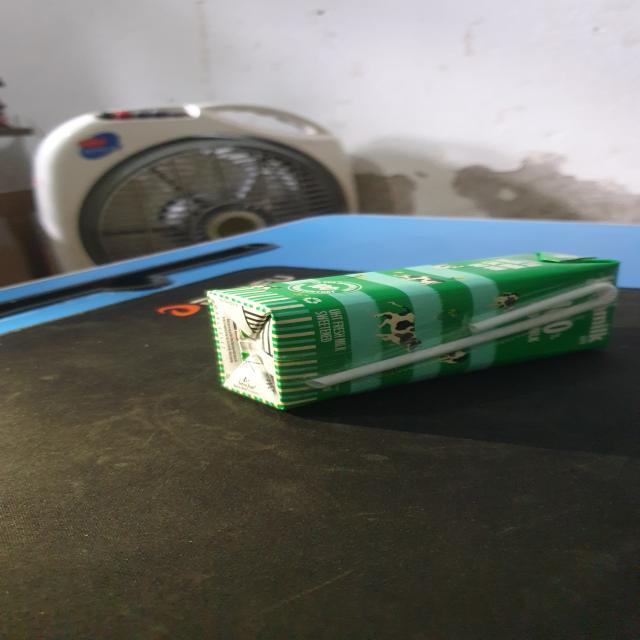Vina: (204, 254, 616, 411)
